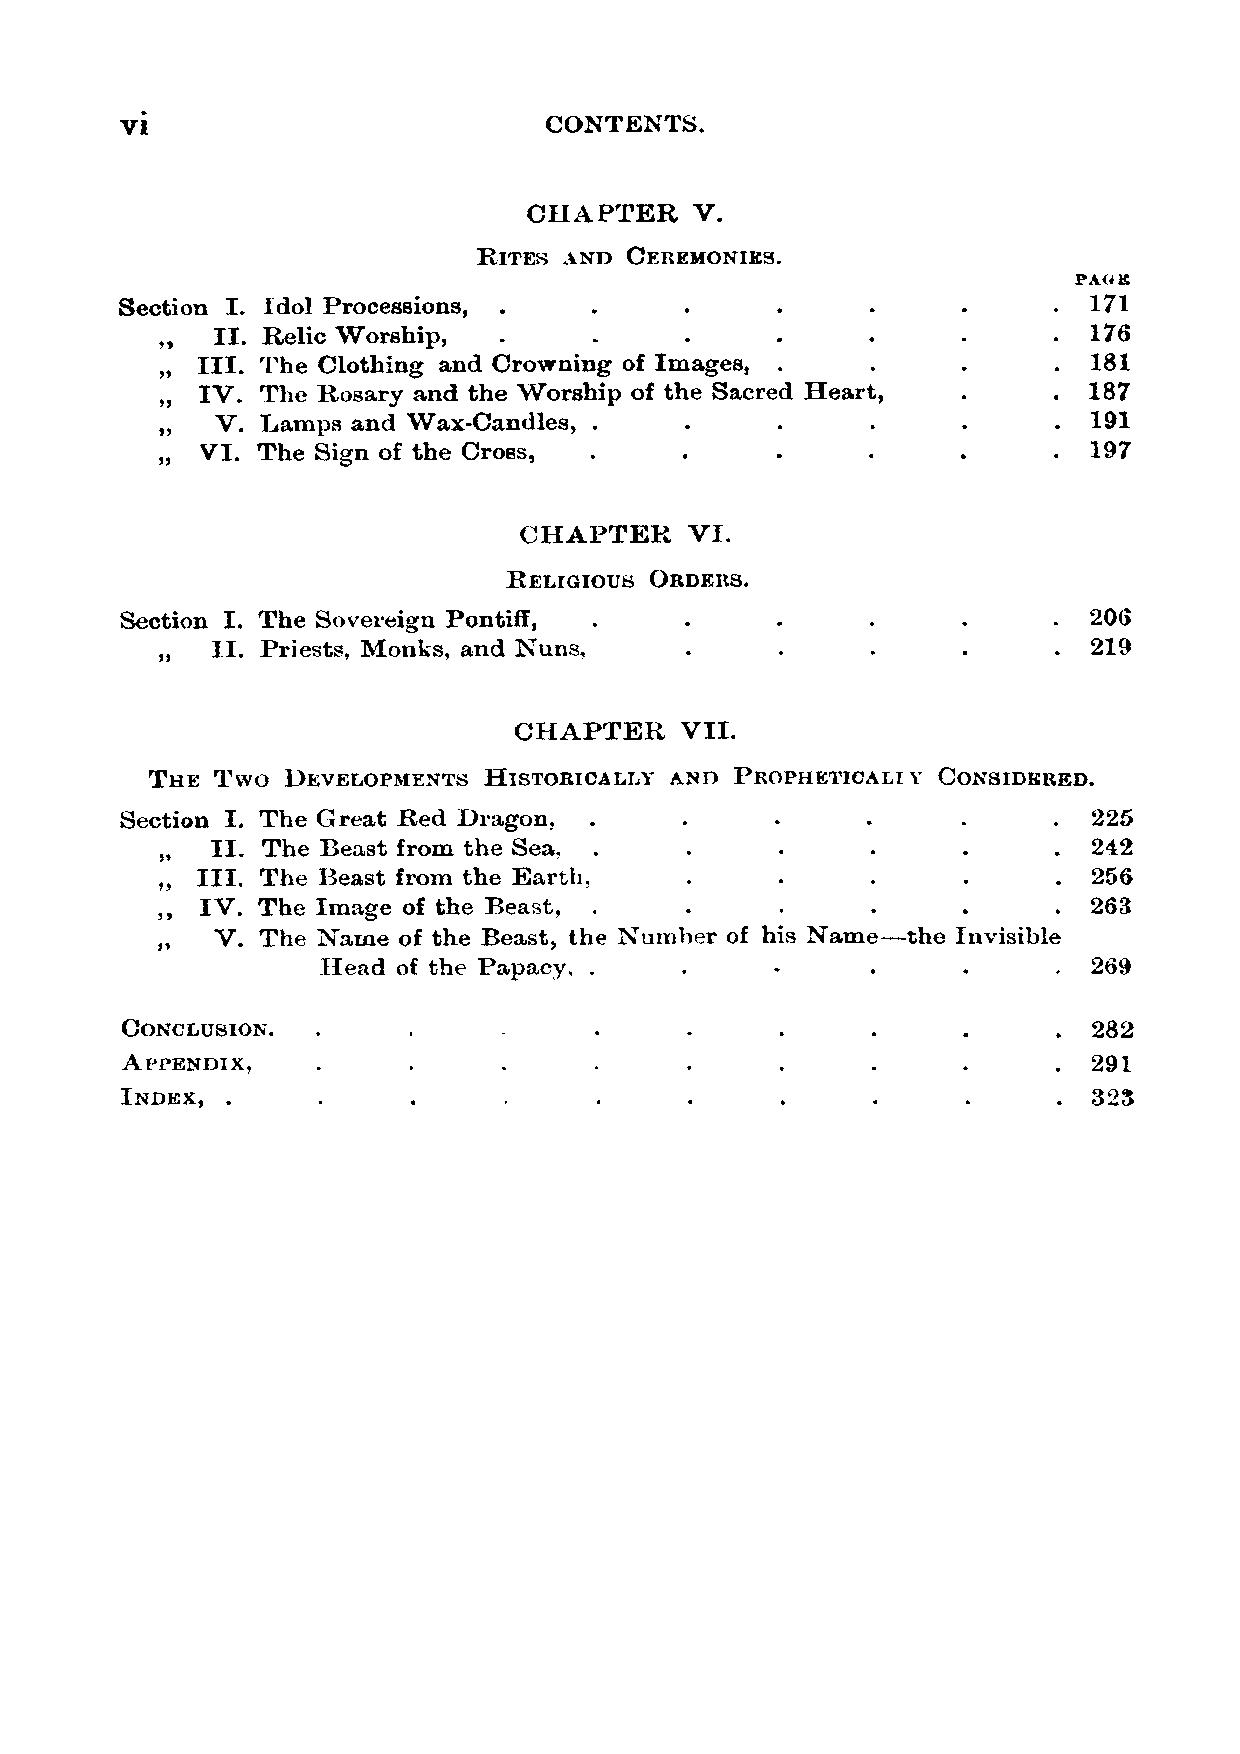TOC_chapter: (137, 705, 1102, 794), (212, 929, 1072, 982), (471, 195, 784, 285), (196, 377, 891, 409), (488, 521, 768, 596), (192, 356, 747, 376), (212, 635, 596, 662), (199, 436, 530, 464), (212, 804, 557, 831), (219, 607, 557, 631), (205, 833, 560, 856), (189, 868, 589, 888), (209, 409, 564, 429), (199, 898, 562, 917), (114, 1001, 267, 1044), (217, 293, 476, 314), (109, 1047, 255, 1083), (205, 327, 450, 349), (114, 1086, 212, 1113)
TOC_pagenumber: (1079, 596, 1133, 628), (1091, 1083, 1139, 1115), (1086, 635, 1138, 664), (1092, 888, 1137, 923), (1084, 442, 1143, 466), (1084, 833, 1145, 856), (1086, 377, 1143, 399), (1091, 864, 1141, 888), (1088, 807, 1147, 827), (1088, 322, 1141, 344), (1088, 1049, 1130, 1076), (1091, 407, 1134, 432), (1091, 290, 1139, 311), (1091, 1017, 1139, 1039), (1088, 352, 1139, 372), (1092, 956, 1134, 980)
chapter: (539, 103, 705, 146)
